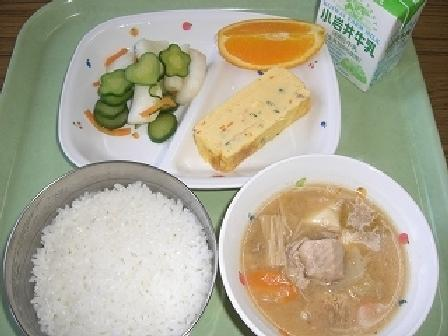Citrus: (209, 8, 327, 70)
Milk: (312, 0, 425, 71)
Rice: (17, 167, 214, 327)
Soups: (220, 166, 430, 333)
egg product: (190, 68, 321, 172)
salad fresh: (77, 35, 199, 137)
